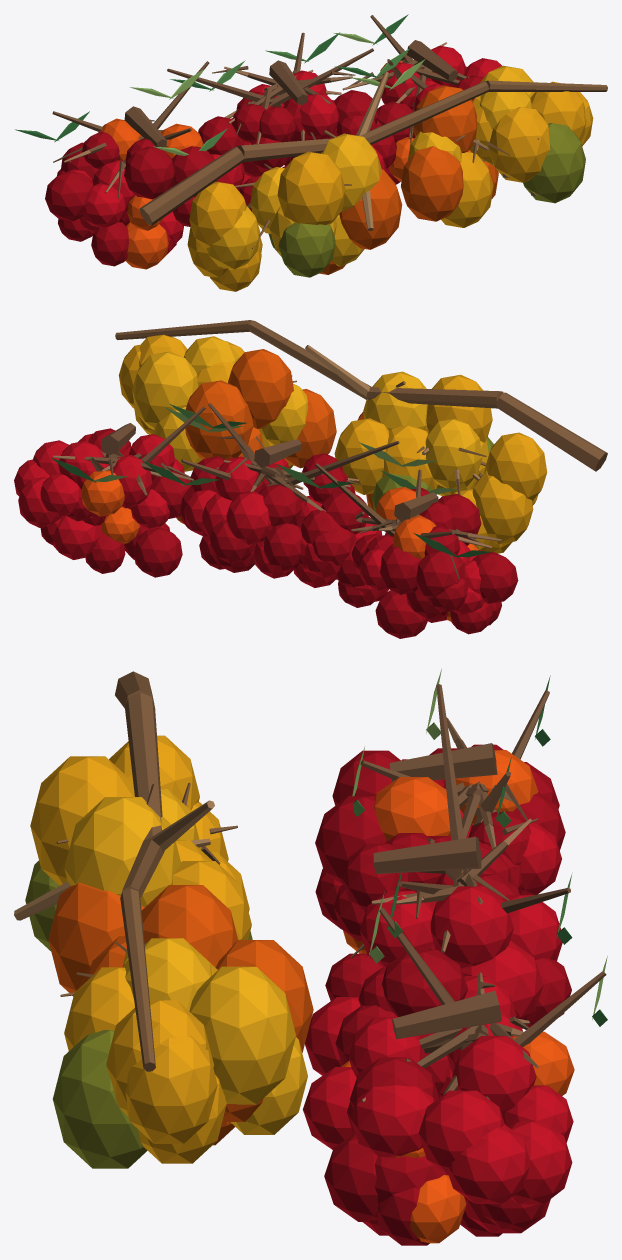
3 views of the same model, one above another, from view 1: azimuth 30°, elevation 25°; view 2: azimuth 150°, elevation 25°; view 3: azimuth 270°, elevation 25° (orthographic). The views are drawn at different scales.
Parts seen in each view (by area): view 1: Fruto_de_níspero, Fruto_de_corozo.138, Rama_larga, Rama_principal_de_corozo, Hojita_verde.015, Tallo_con_brote, Tallo_del_fruto; view 2: Fruto_de_corozo.138, Fruto_de_níspero, Rama_larga, Rama_principal_de_corozo, Tallo_con_brote, Hojita_verde.015; view 3: Fruto_de_corozo.138, Fruto_de_níspero, Rama_principal_de_corozo, Rama_larga, Tallo_con_brote, Hojita_verde.015, Tallo_del_fruto.
Boxes of the visible parts, x1=… form: Fruto_de_níspero: x1=187, y1=65, x2=593, y2=291; Fruto_de_corozo.138: x1=45, y1=45, x2=501, y2=269; Rama_larga: x1=139, y1=71, x2=607, y2=230; Rama_principal_de_corozo: x1=53, y1=40, x2=469, y2=198; Hojita_verde.015: x1=15, y1=14, x2=425, y2=155; Tallo_con_brote: x1=52, y1=15, x2=412, y2=139; Tallo_del_fruto: x1=235, y1=130, x2=538, y2=248; Fruto_de_corozo.138: x1=14, y1=428, x2=518, y2=638; Fruto_de_níspero: x1=118, y1=334, x2=547, y2=553; Rama_larga: x1=115, y1=320, x2=607, y2=471; Rama_principal_de_corozo: x1=53, y1=423, x2=501, y2=579; Tallo_con_brote: x1=89, y1=403, x2=454, y2=538; Hojita_verde.015: x1=51, y1=404, x2=490, y2=558; Fruto_de_corozo.138: x1=302, y1=744, x2=574, y2=1245; Fruto_de_níspero: x1=25, y1=735, x2=313, y2=1168; Rama_principal_de_corozo: x1=351, y1=717, x2=538, y2=1102; Rama_larga: x1=14, y1=671, x2=214, y2=1071; Tallo_con_brote: x1=360, y1=684, x2=606, y2=1046; Hojita_verde.015: x1=352, y1=668, x2=607, y2=1026; Tallo_del_fruto: x1=56, y1=782, x2=237, y2=1012.
Size of the model in its own units: 3 by 1.17 by 1.84.
